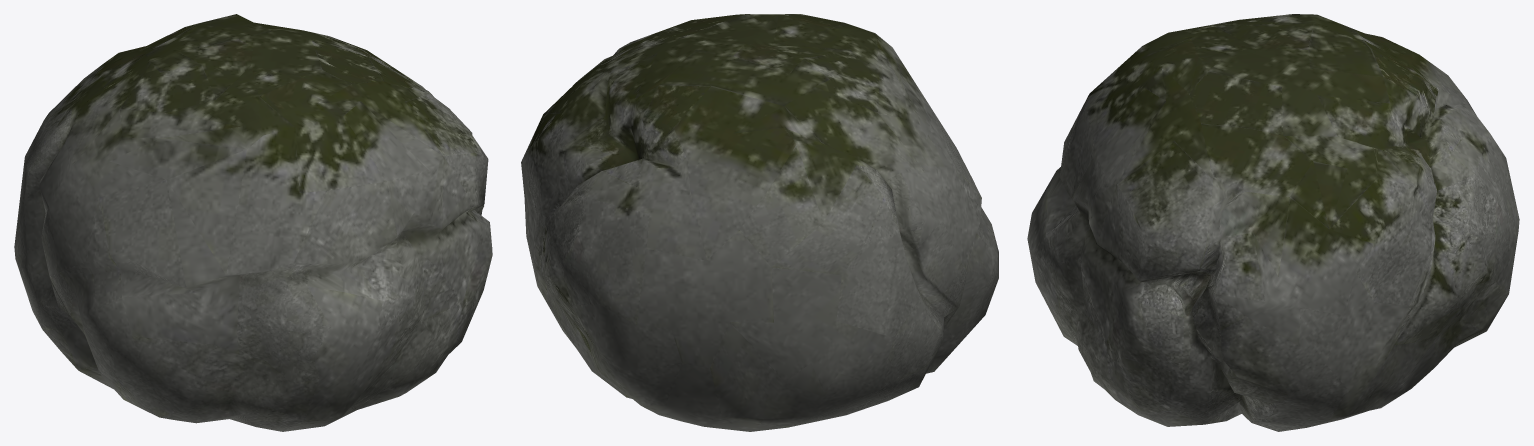
The model's file is boulder_granite.glb.
3 renders of one model, left to right at view 1: azimuth 30°, elevation 25°; view 2: azimuth 150°, elevation 25°; view 3: azimuth 270°, elevation 25°, orthographic. The views are drawn at different scales.
Bounding box in the file's own units: 0.9414 × 0.7286 × 0.9531.
Materials: 1 (1 with a texture image).
